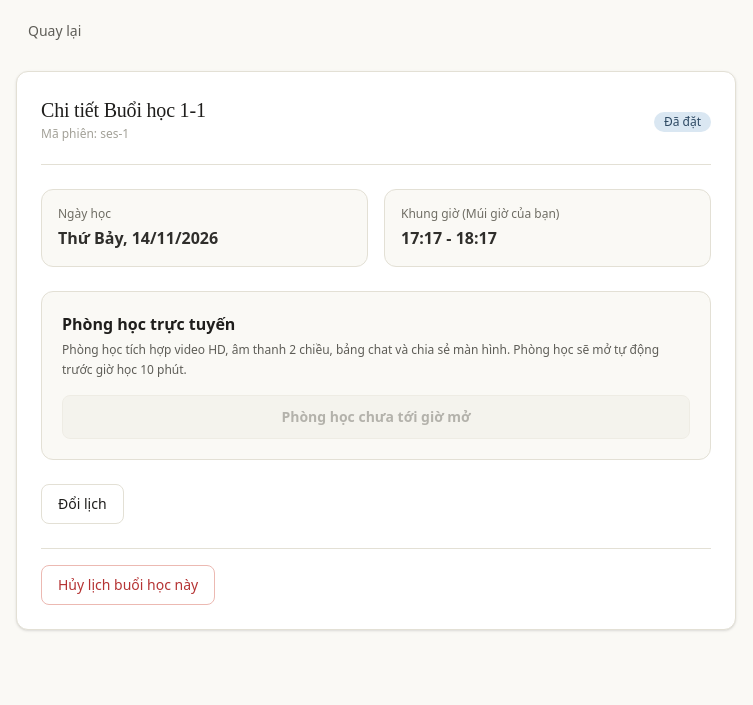
SessionDetailPage › khung giờ vừa bị đặt: giữ form và bỏ chọn
The image size is (753, 705).
Step 1. Click the button "Đổi lịch" → [82, 504], box [41, 484, 124, 524]
(page scrolled)
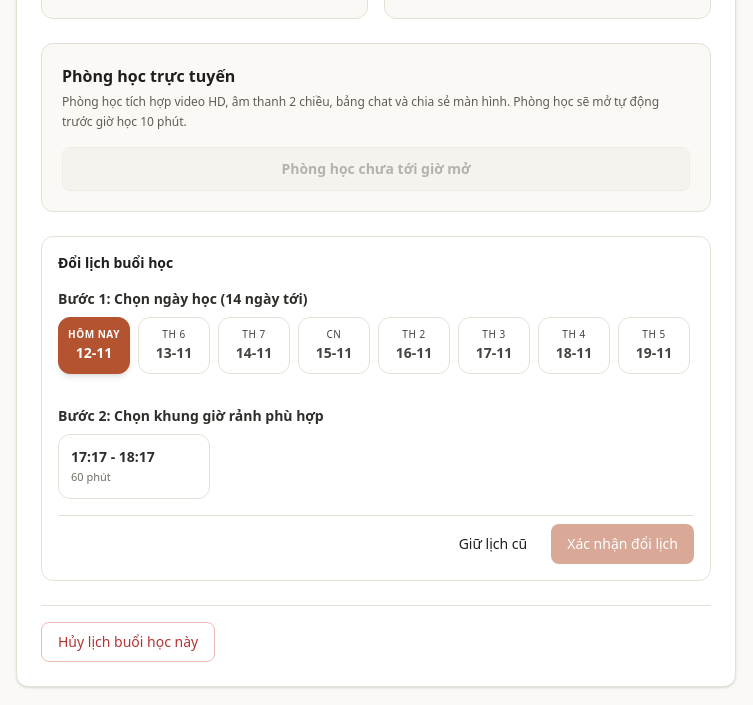
Step 2. Click the button with test id "slot-item" → [134, 467], box [58, 434, 210, 499]
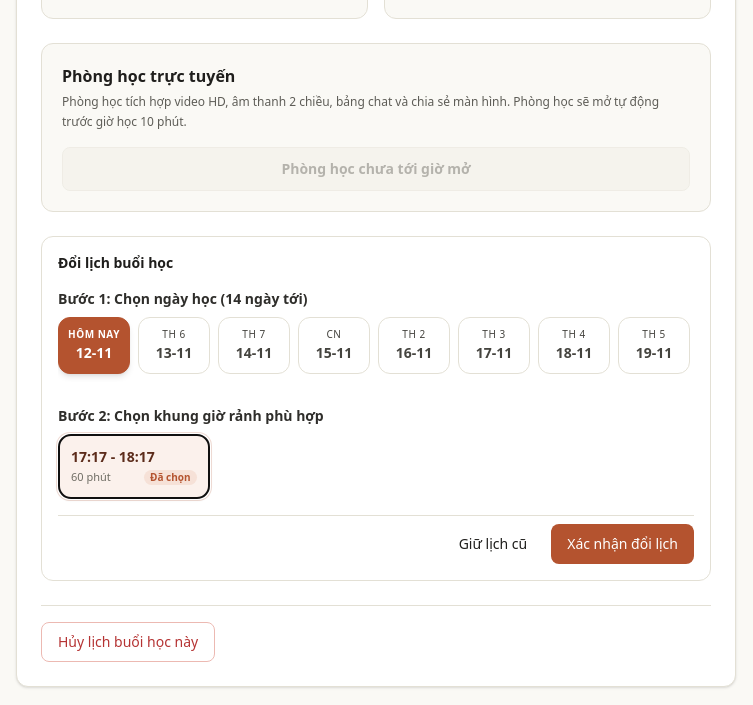
Step 3. Click the button "Xác nhận đổi lịch" → [623, 544], box [551, 524, 694, 564]
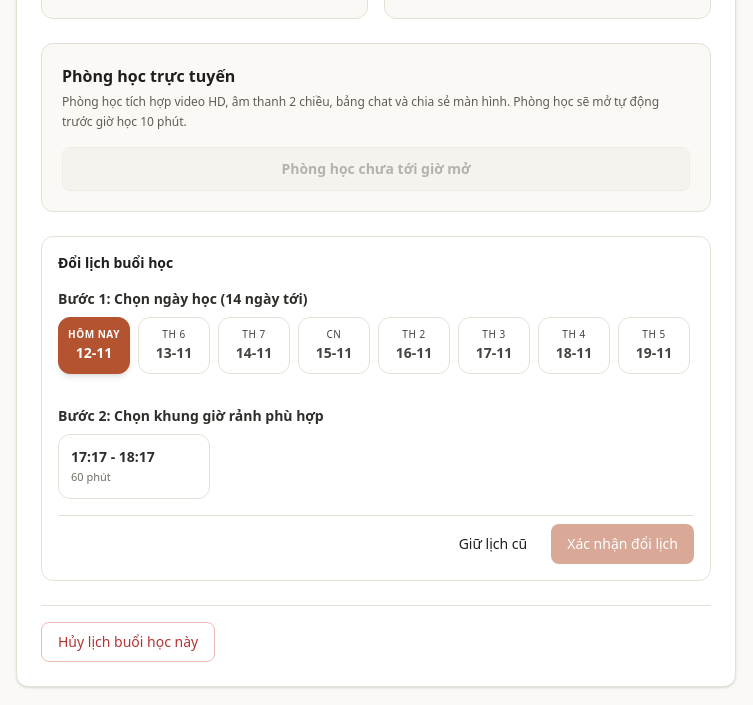
Expected: the button "Xác nhận đổi lịch" is disabled, [551, 524, 694, 564]
